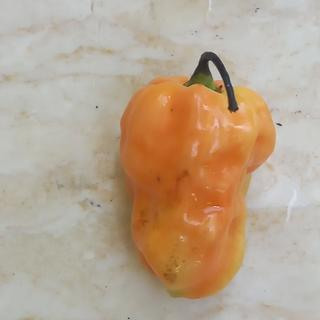Grade-A: (115, 64, 282, 300)
